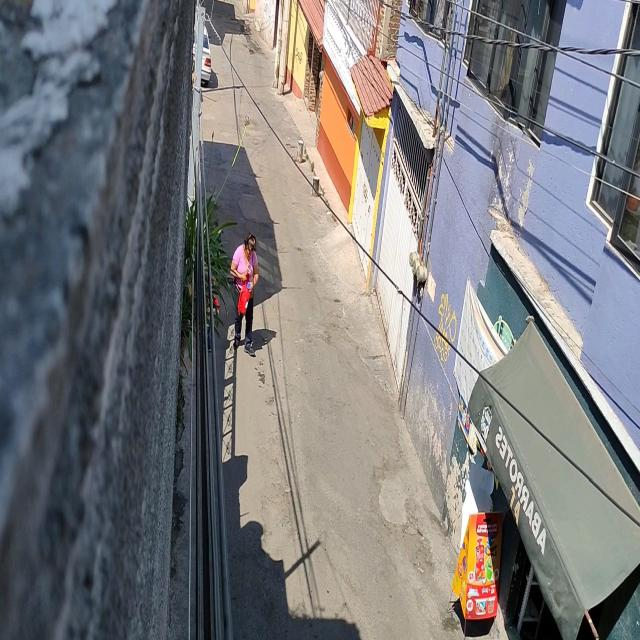adult: (230, 232, 258, 356)
